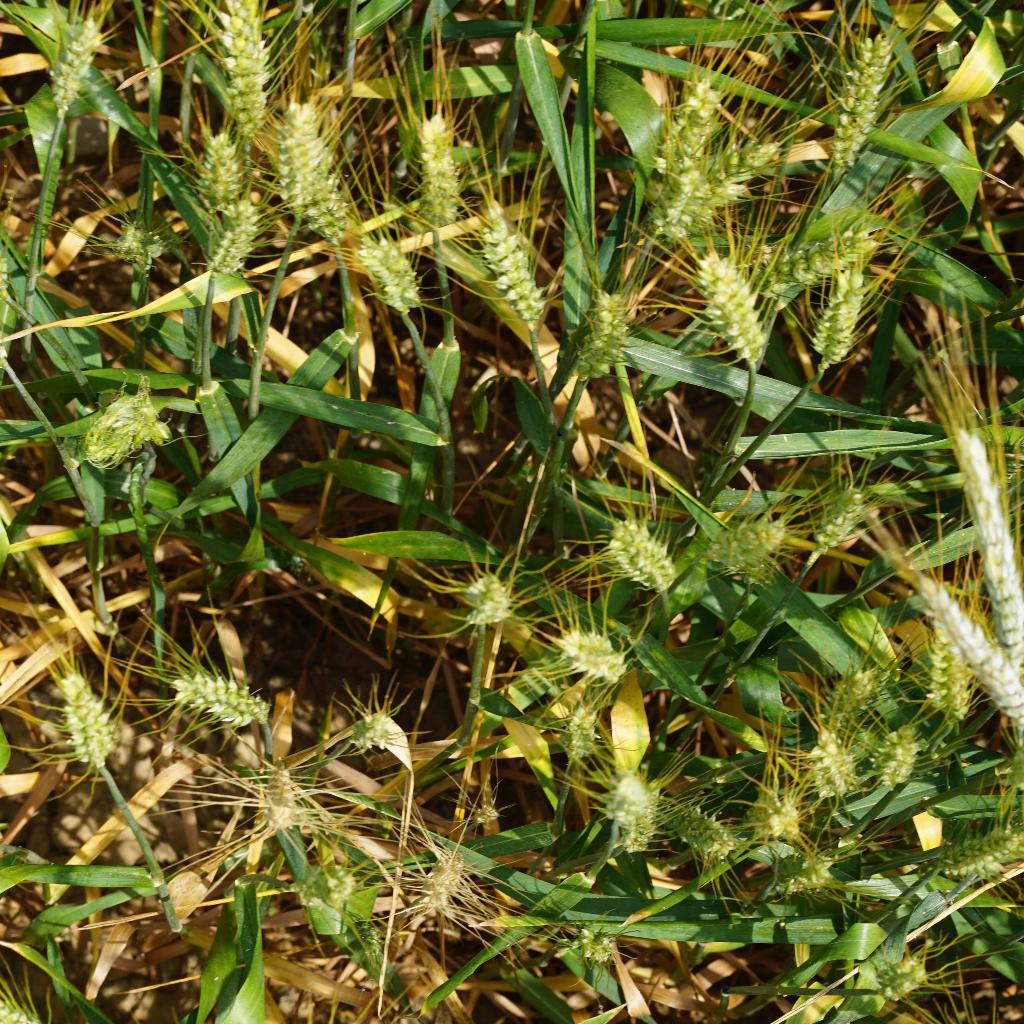0-0: (918, 417, 1023, 685), (899, 551, 1024, 752), (817, 29, 896, 183), (684, 243, 768, 376), (400, 94, 474, 243), (160, 653, 281, 743), (799, 246, 880, 377), (77, 376, 178, 479), (55, 653, 134, 784), (477, 194, 550, 324), (526, 608, 639, 691), (208, 0, 280, 124), (758, 219, 889, 287), (707, 133, 792, 232), (737, 840, 847, 915), (39, 0, 115, 108), (572, 260, 631, 399), (636, 141, 718, 240), (600, 512, 688, 604), (359, 228, 437, 328), (916, 624, 986, 733), (660, 781, 742, 873), (593, 755, 661, 864), (922, 815, 1024, 885), (271, 97, 325, 224), (190, 195, 264, 287), (796, 474, 878, 556), (650, 71, 725, 159), (241, 756, 309, 842), (710, 504, 788, 578), (796, 722, 870, 800), (405, 839, 475, 918), (307, 174, 367, 264), (459, 560, 523, 642), (862, 712, 922, 799), (864, 937, 930, 1015), (804, 653, 879, 717), (747, 776, 808, 851), (112, 206, 174, 277), (281, 858, 362, 912), (545, 695, 598, 769), (565, 914, 638, 965), (340, 702, 402, 761), (195, 129, 242, 206), (354, 920, 385, 959), (469, 794, 504, 827)
